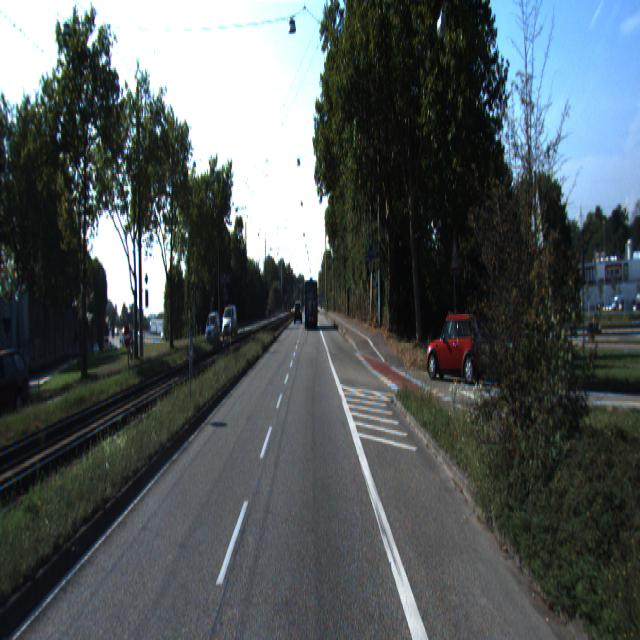Car: (426, 310, 486, 383), (0, 346, 38, 425), (304, 278, 318, 328), (222, 307, 238, 340), (205, 314, 221, 345)
